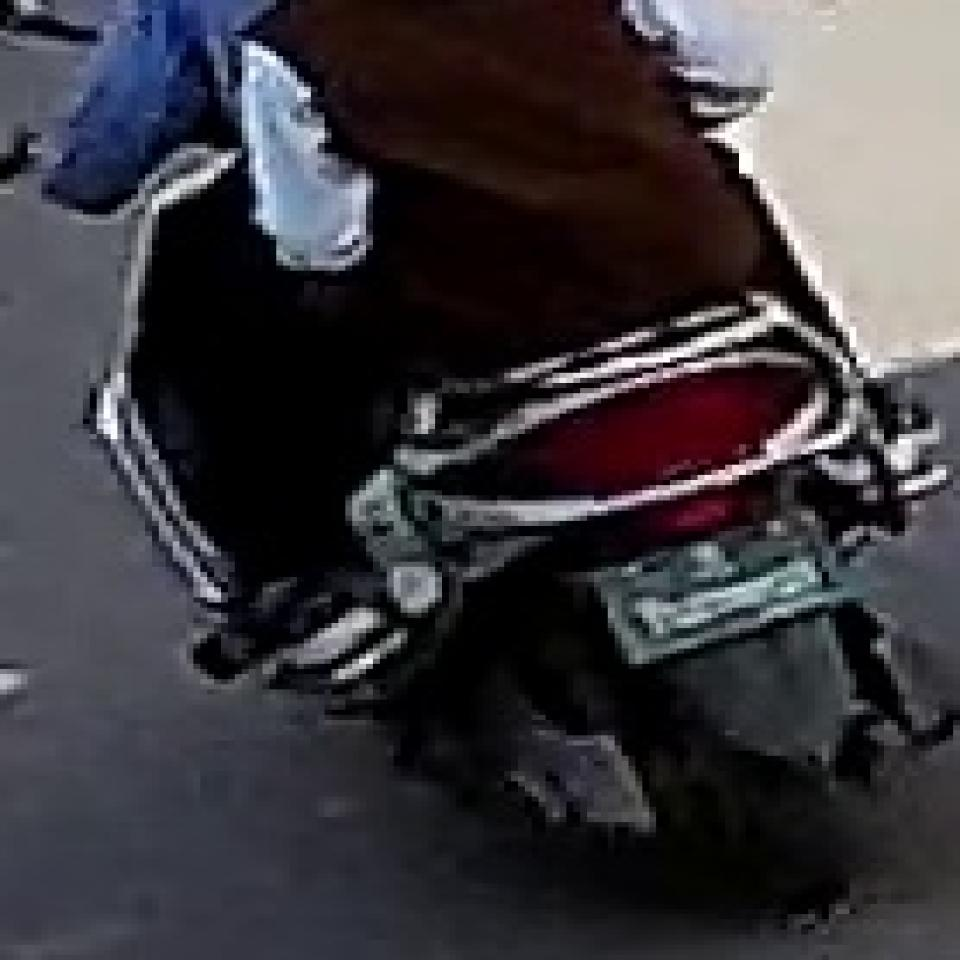tail_light: (491, 342, 820, 518)
